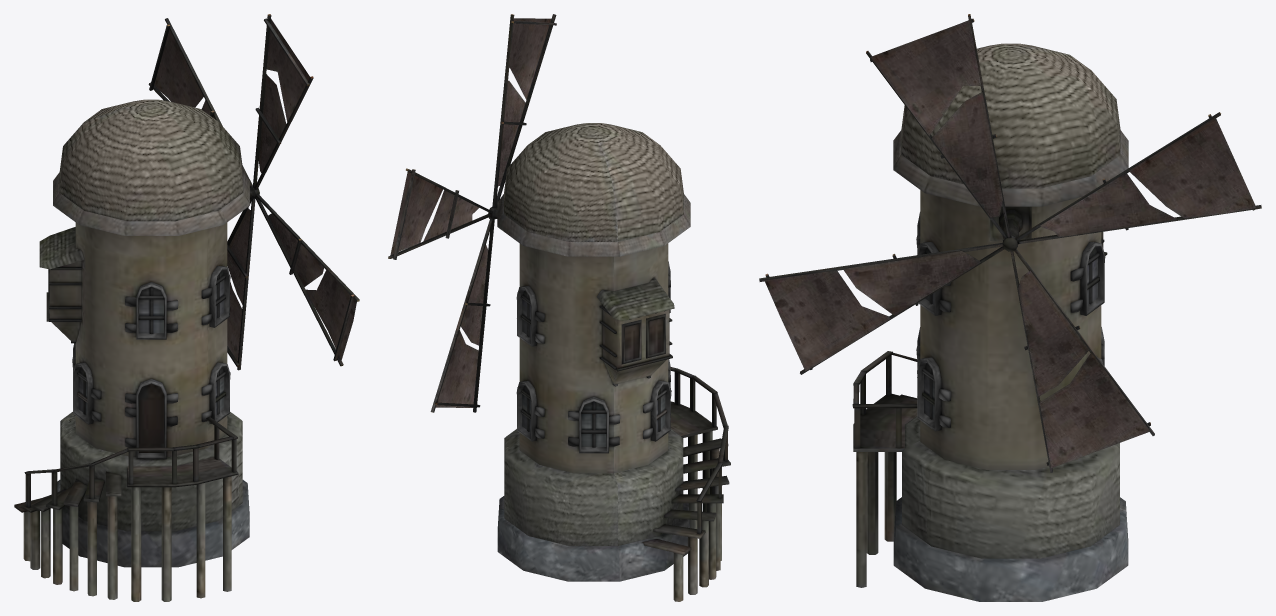
3 renders of one model, left to right at view 1: azimuth 30°, elevation 25°; view 2: azimuth 150°, elevation 25°; view 3: azimuth 270°, elevation 25°, orthographic. The views are drawn at different scales.
Visible parts, largest first — view 1: RigModels_Windmill; view 2: RigModels_Windmill; view 3: RigModels_Windmill.
Part boxes in pixels (x1,y1,x2,y2): RigModels_Windmill: (14,14,359,601); RigModels_Windmill: (388,14,730,601); RigModels_Windmill: (759,14,1261,601).
Size of the model in its own units: 115 by 250 by 183.
2 materials, 2 textured.
